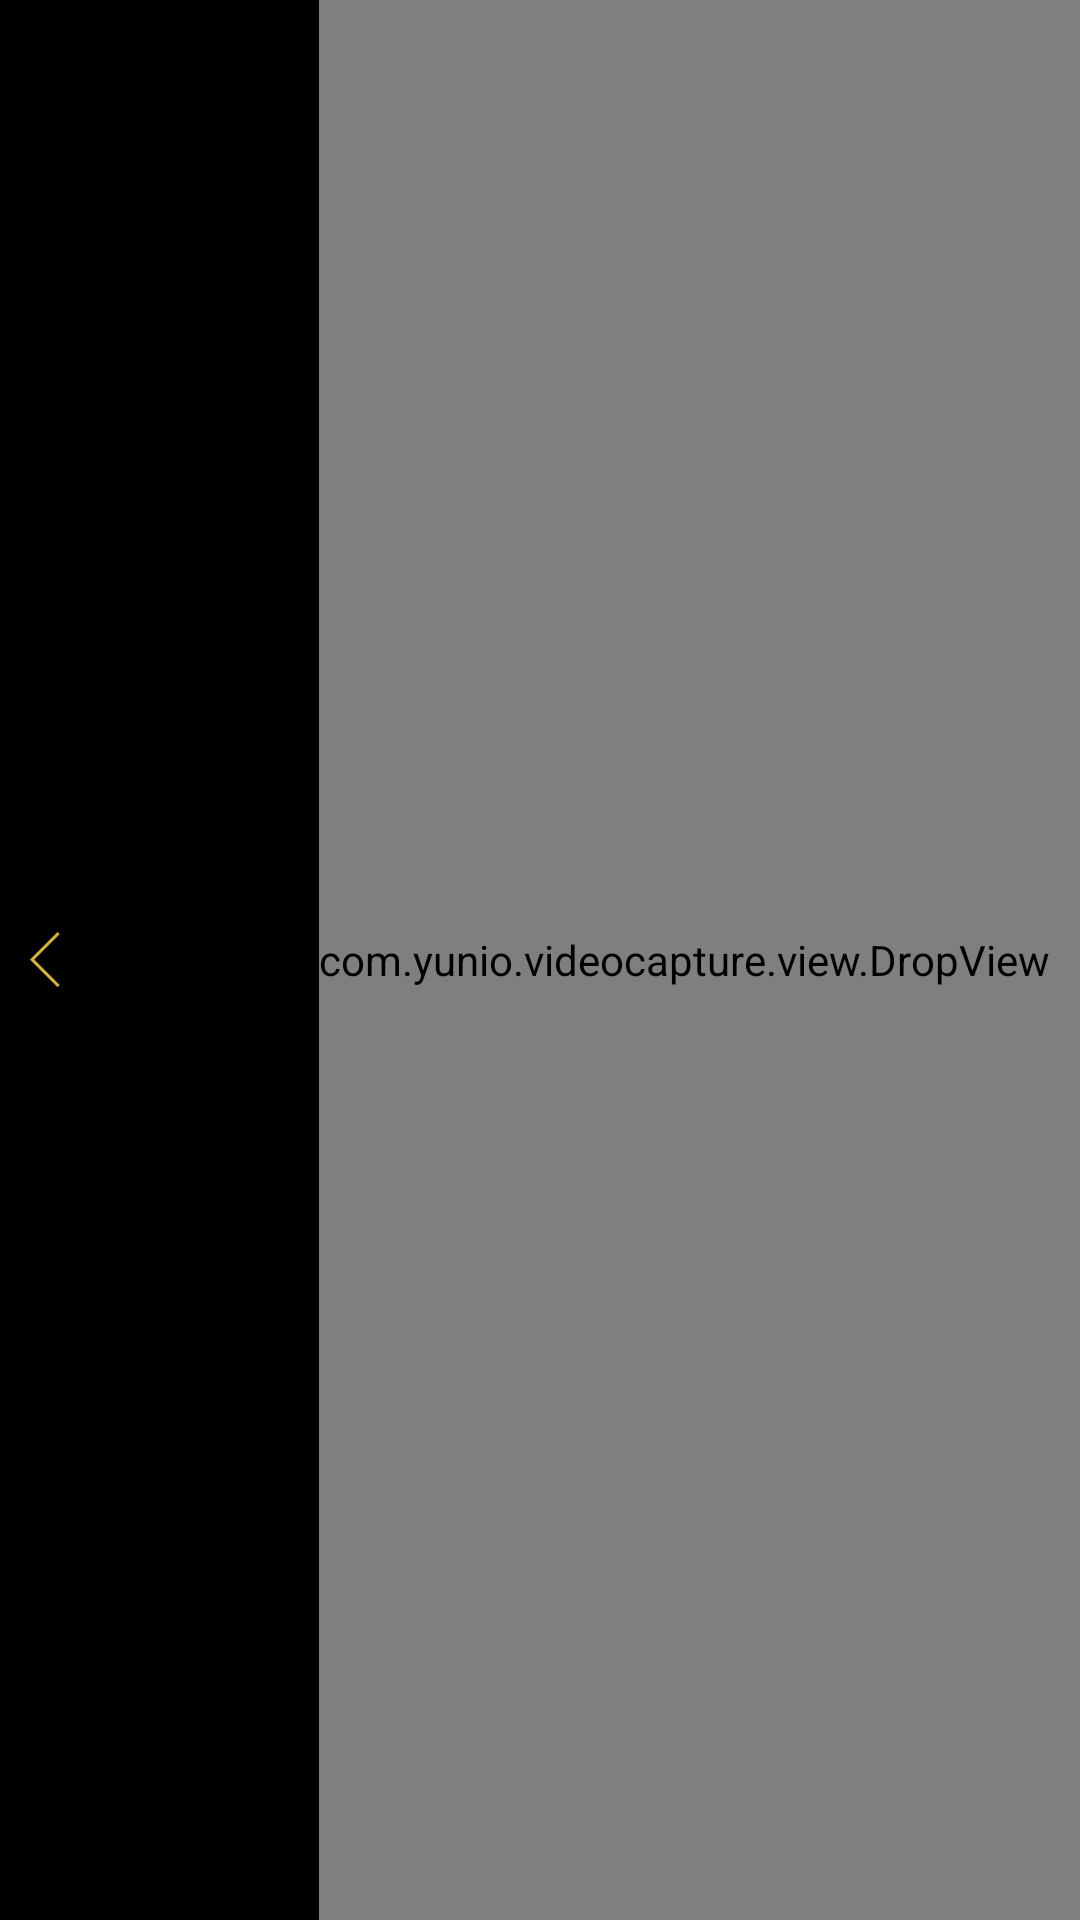

Named icons in this screenshot (1080*1920) and their centers, (x,y):
back: (45,959)
